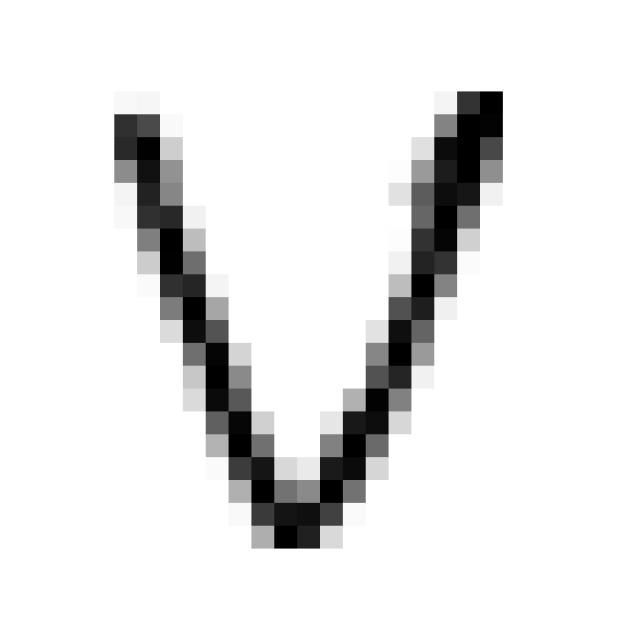7 -seven-: (94, 76, 523, 562)
